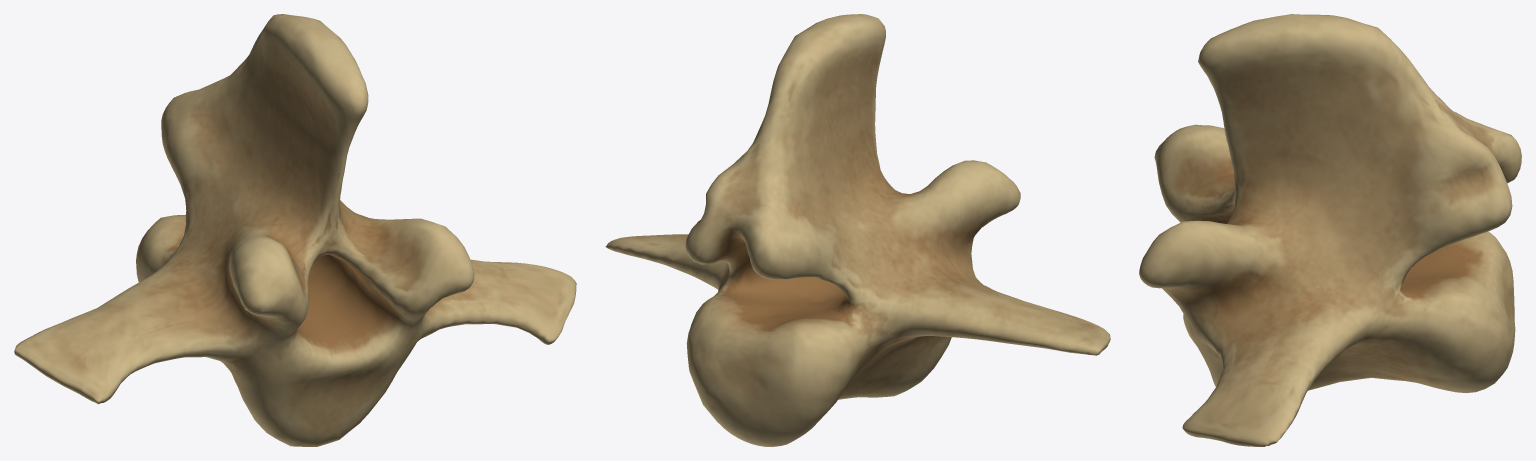
3 views of the same model, side by side, from view 1: azimuth 30°, elevation 25°; view 2: azimuth 150°, elevation 25°; view 3: azimuth 270°, elevation 25° (orthographic). The views are drawn at different scales.
Parts seen in each view (by area): view 1: ZBrush_defualt_group.017; view 2: ZBrush_defualt_group.017; view 3: ZBrush_defualt_group.017.
Part boxes in pixels (x1,y1,x2,y2): ZBrush_defualt_group.017: [14, 14, 576, 446]; ZBrush_defualt_group.017: [605, 14, 1110, 446]; ZBrush_defualt_group.017: [1139, 14, 1521, 446].
Bounding box in the file's own units: 95.01 × 66.31 × 57.6.
Materials: 1 (1 with a texture image).
